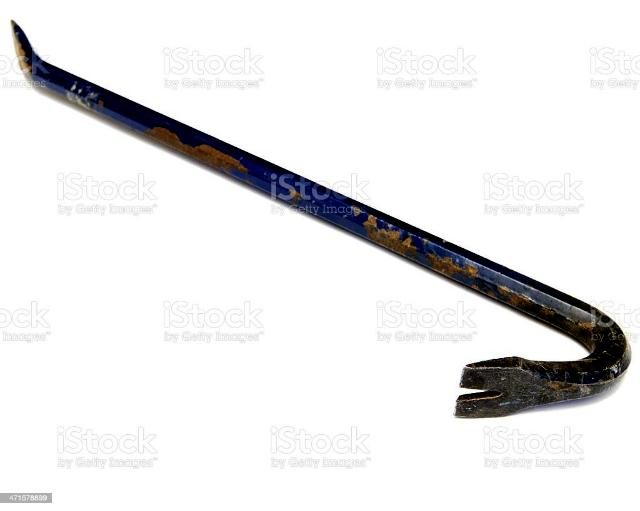crow bar: (29, 55, 635, 415)
